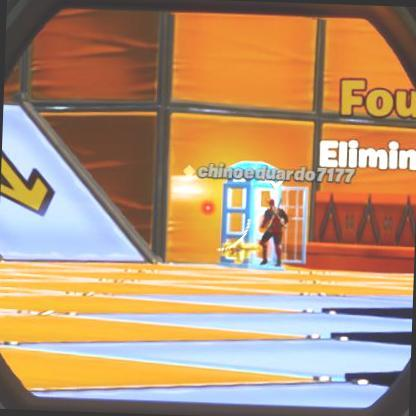person: (259, 204, 288, 268)
